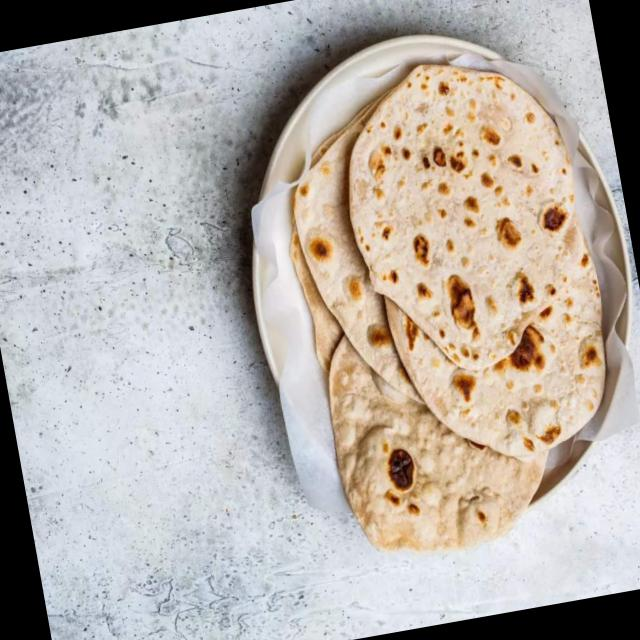roti: (340, 64, 589, 367), (323, 339, 553, 556), (383, 263, 608, 451), (293, 111, 417, 398)
